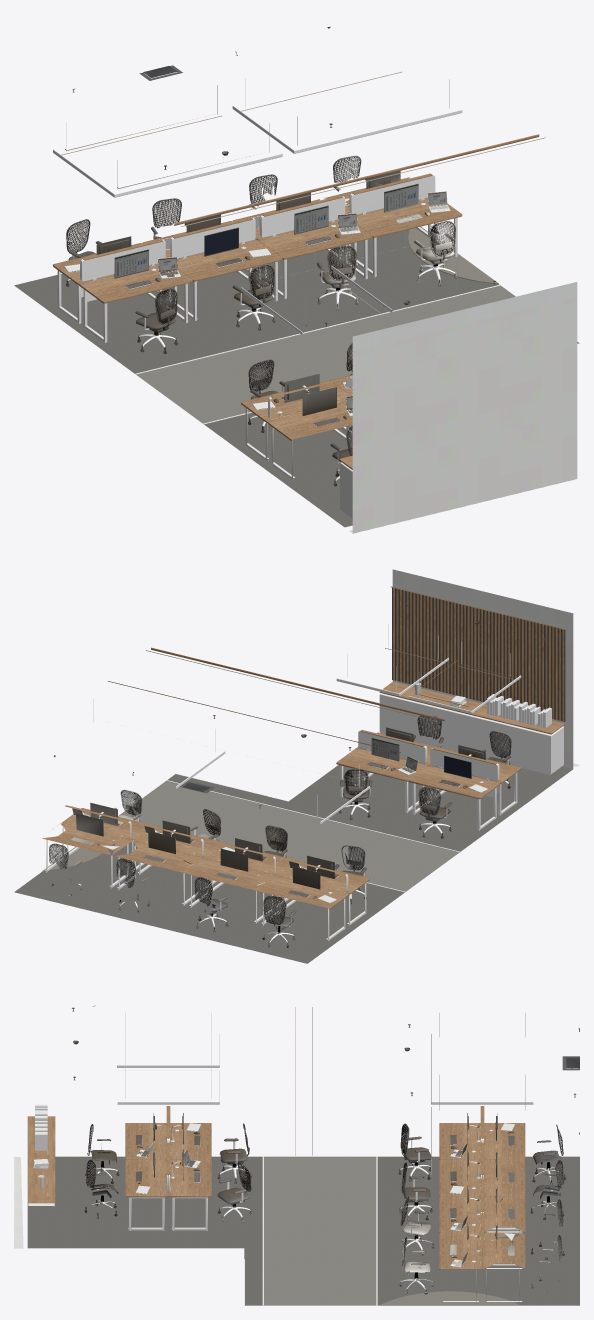
File: z-open_e-lite.full.014dc002.glb
3 views of the same model, one above another, from view 1: azimuth 30°, elevation 25°; view 2: azimuth 150°, elevation 25°; view 3: azimuth 270°, elevation 25° (orthographic). The views are drawn at different scales.
Visible parts, largest first — view 1: open_e_plaster, open_e_carpet, open_e_fx, open_e_oak, open_e_satin, open_e_emit, open_e_metal_lit; view 2: open_e_carpet, open_e_proxy_slat, open_e_satin, open_e_oak, open_e_fx, open_e_plaster, open_e_emit, open_e_metal_lit; view 3: open_e_carpet, open_e_oak, open_e_fx, open_e_satin, open_e_metal_lit, open_e_plaster.
Boxes of the visible parts, bbox=[...] form: open_e_plaster: bbox=[349, 282, 577, 533]; open_e_carpet: bbox=[14, 204, 579, 527]; open_e_fx: bbox=[65, 26, 495, 486]; open_e_oak: bbox=[53, 134, 539, 469]; open_e_satin: bbox=[53, 78, 500, 519]; open_e_emit: bbox=[61, 71, 545, 408]; open_e_metal_lit: bbox=[64, 191, 579, 480]; open_e_carpet: bbox=[14, 765, 572, 963]; open_e_proxy_slat: bbox=[392, 587, 565, 721]; open_e_satin: bbox=[45, 624, 563, 941]; open_e_oak: bbox=[42, 647, 564, 909]; open_e_fx: bbox=[49, 604, 545, 947]; open_e_plaster: bbox=[392, 569, 579, 768]; open_e_emit: bbox=[146, 586, 562, 817]; open_e_metal_lit: bbox=[74, 743, 508, 942]; open_e_carpet: bbox=[27, 1156, 579, 1305]; open_e_oak: bbox=[27, 1007, 525, 1269]; open_e_fx: bbox=[72, 1007, 579, 1294]; open_e_satin: bbox=[28, 1005, 533, 1305]; open_e_metal_lit: bbox=[91, 1123, 558, 1305]; open_e_plaster: bbox=[14, 1157, 23, 1248].
Bounding box in the file's own units: 6.5 × 3.36 × 10.45.
Materials: 9 (6 with a texture image).
